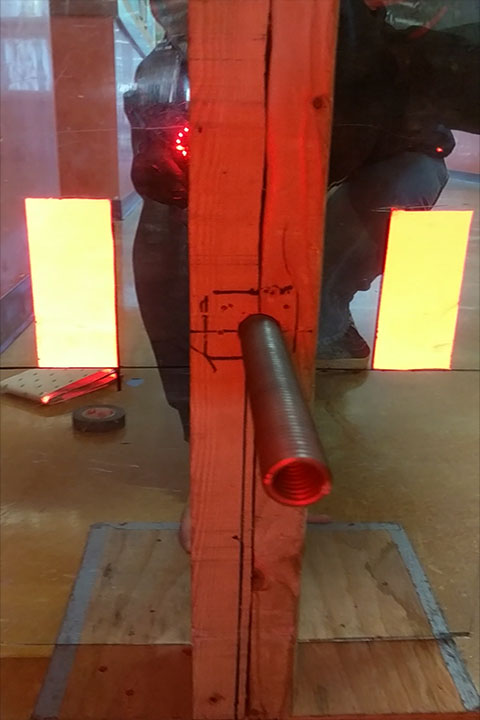gear: (370, 208, 473, 374), (24, 197, 120, 369)
